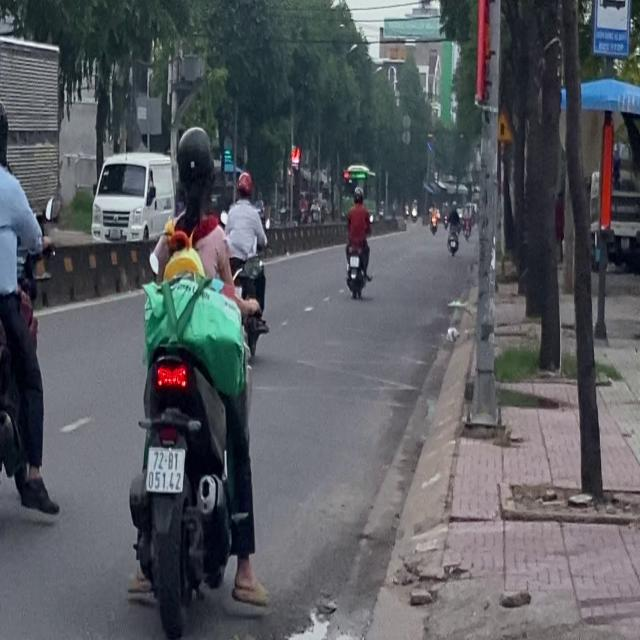helmet: (176, 145, 216, 235)
licenseplate: (125, 119, 266, 632), (0, 93, 53, 535)
nohelmet: (146, 447, 184, 492)
